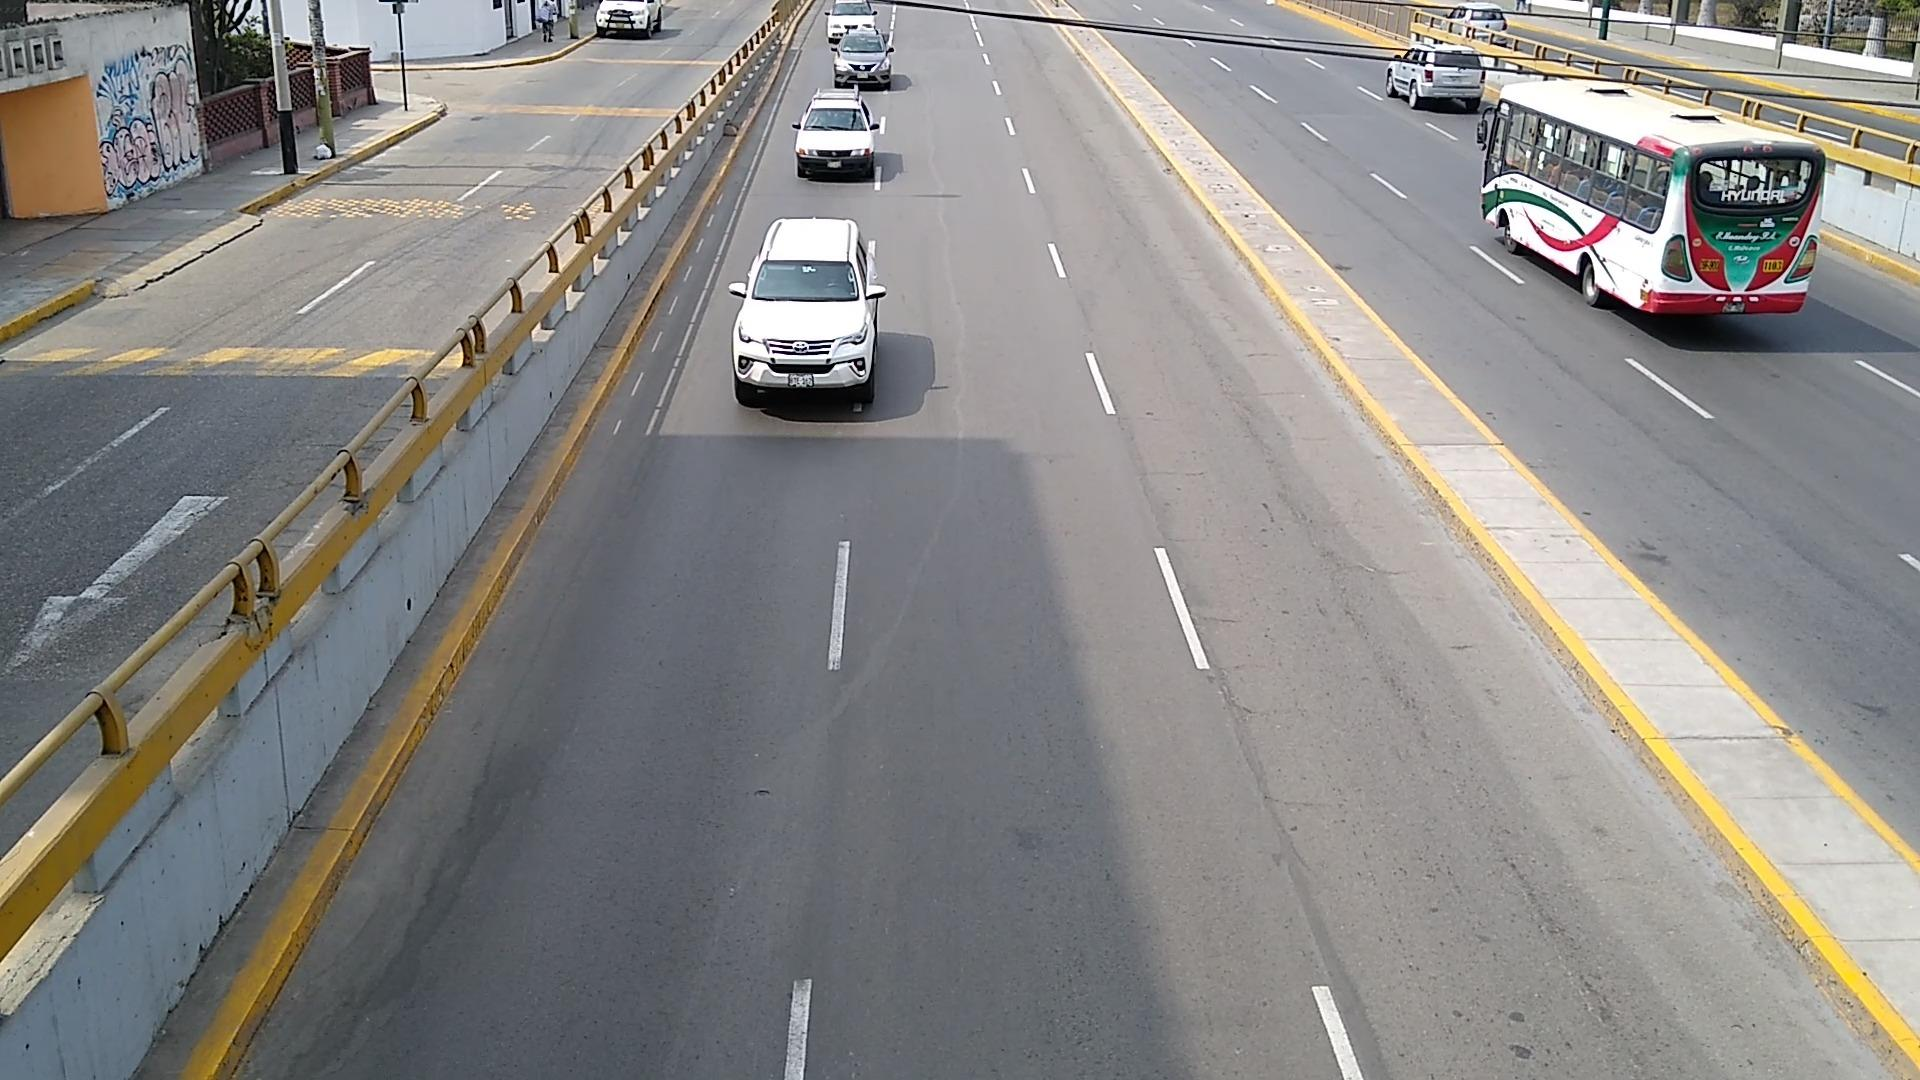bus: (1477, 79, 1826, 316)
car: (1477, 79, 1826, 316), (728, 218, 885, 405), (795, 90, 881, 177), (1383, 45, 1485, 112), (832, 26, 893, 88), (825, 0, 877, 45)
